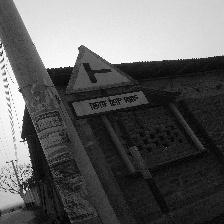Side-road-left: (64, 45, 151, 118)
